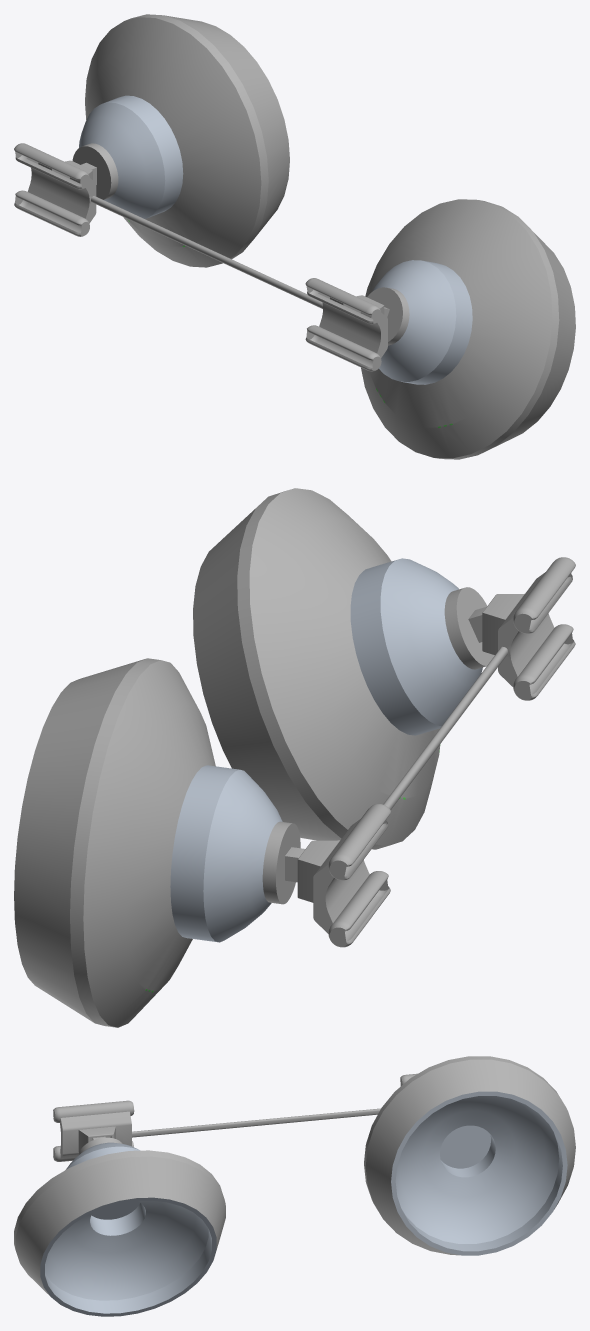
File: CEON_THURSTERS.glb
3 renders of one model, top to bottom at view 1: azimuth 30°, elevation 25°; view 2: azimuth 150°, elevation 25°; view 3: azimuth 270°, elevation 25°, orthographic. The views are drawn at different scales.
Visible parts, largest first — view 1: TRUSTER_SUPPORT; view 2: TRUSTER_SUPPORT; view 3: TRUSTER_SUPPORT.
Boxes of the visible parts, x1,y1,x2,y2 form: TRUSTER_SUPPORT: (14,14,575,459); TRUSTER_SUPPORT: (14,488,575,1027); TRUSTER_SUPPORT: (14,1056,575,1316).
Size of the model in its own units: 17.35 by 14.81 by 32.87.
